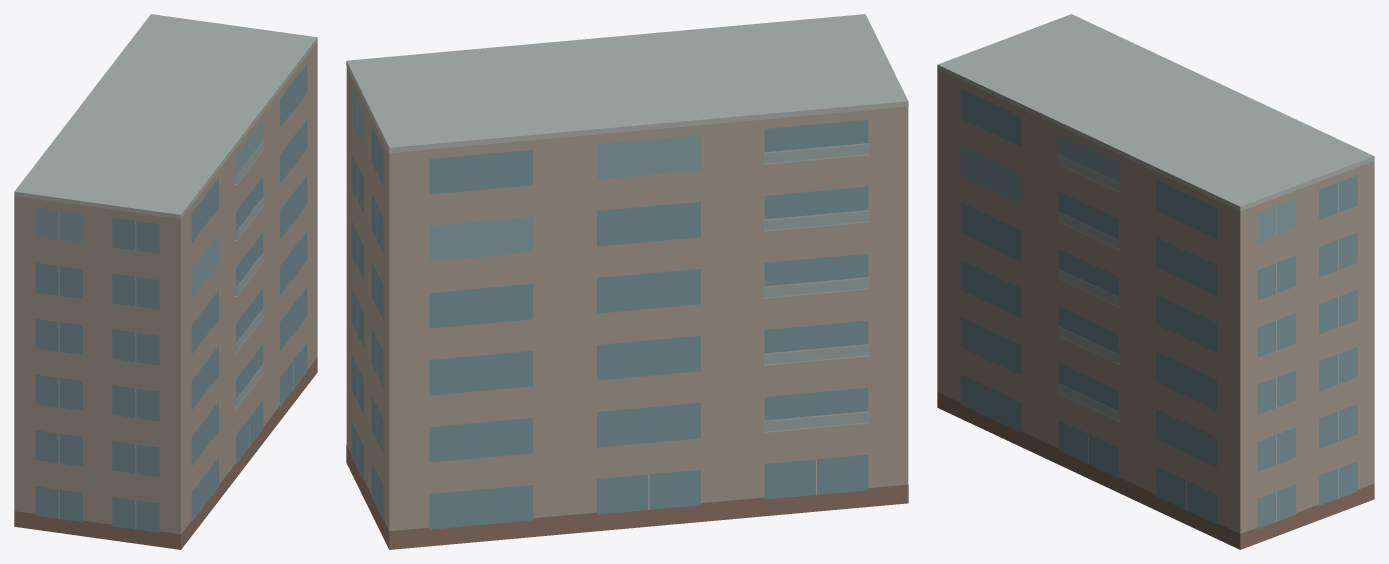
File: survey-upis-32725670.glb
3 renders of one model, left to right at view 1: azimuth 30°, elevation 25°; view 2: azimuth 150°, elevation 25°; view 3: azimuth 270°, elevation 25°, orthographic. The views are drawn at different scales.
Parts seen in each view (by area): view 1: survey-upis-32725670.tmp; view 2: survey-upis-32725670.tmp; view 3: survey-upis-32725670.tmp.
Part boxes in pixels (box(x1,y1,x2,y2)): survey-upis-32725670.tmp: box(14, 14, 317, 549); survey-upis-32725670.tmp: box(346, 14, 908, 549); survey-upis-32725670.tmp: box(937, 14, 1374, 549).
Size of the model in its own units: 22.06 by 18.3 by 21.14.
